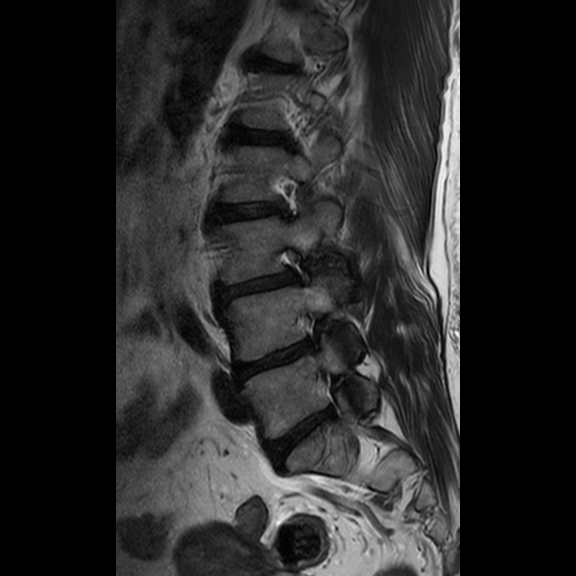LFS0: (272, 234, 318, 295)
